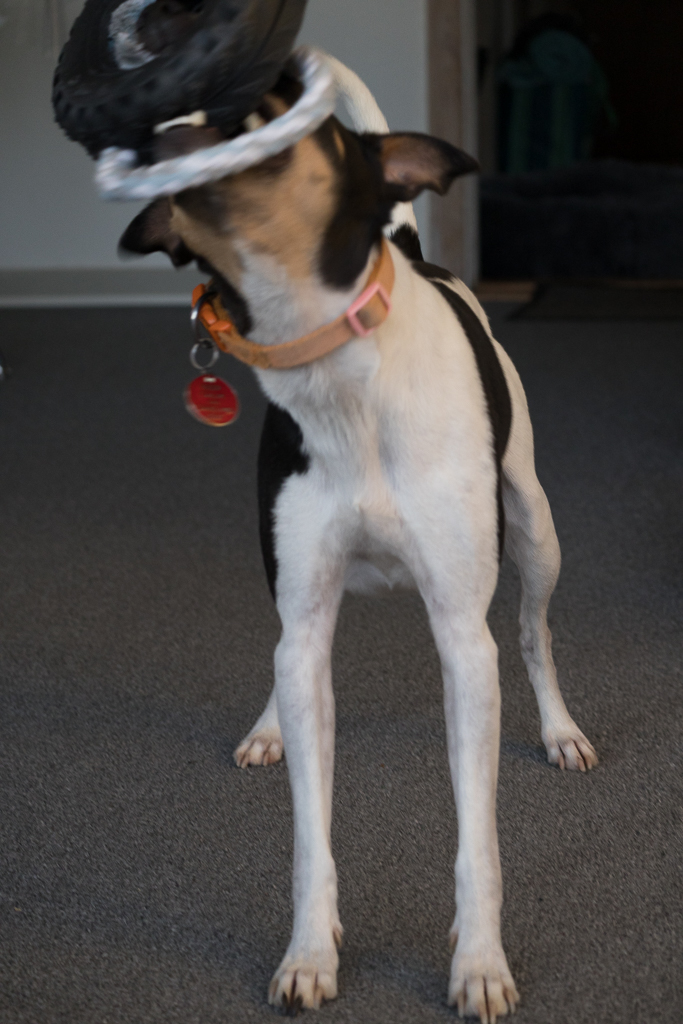Dog: (107, 0, 611, 1024)
